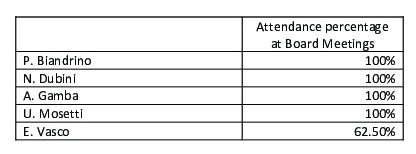table: (0, 0, 416, 154)
